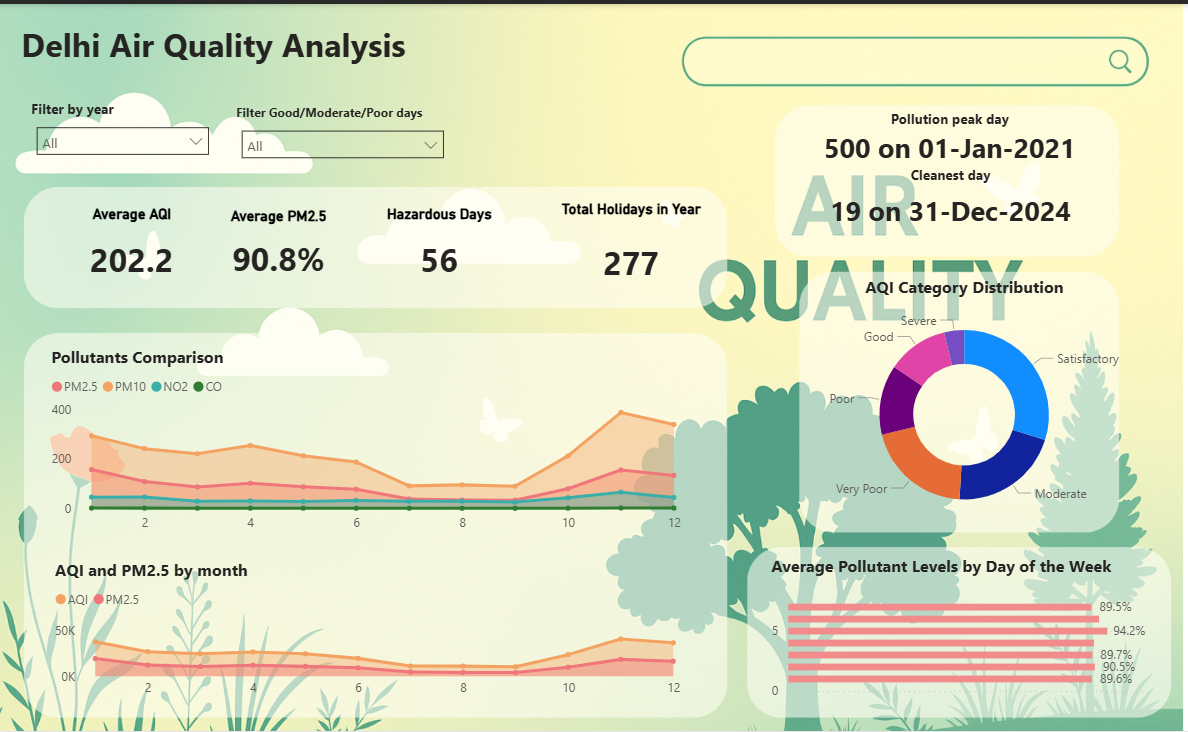

The dashboard page shown, as its layout file describes it:
{"tool":"powerbi","page":{"name":"Page 1","canvas":[1280,720],"ordinal":0},"visuals":[{"type":"textbox","box":[61.7,19.2,472,56.3],"z":0},{"type":"card","title":"Average PM2.5","fields":{"Values":["cleaned_delhi_air_data.Avg_PM2.5"]},"box":[204.1,193,118.7,90.3],"z":1000},{"type":"card","title":" Hazardous Days ","fields":{"Values":["cleaned_delhi_air_data.Hazard_day"]},"box":[298.1,191.7,159.6,96.5],"z":2000},{"type":"card","title":"General air quality level","fields":{"Values":["cleaned_delhi_air_data.Avg_AQI"]},"box":[35.9,191.7,171.9,96.5],"z":3000},{"type":"card","title":"Pollution peak day","fields":{"Values":["cleaned_delhi_air_data.Worst_AQI_Info"]},"box":[794.1,103.9,291.9,60.6],"z":4000},{"type":"card","title":"Cleanest day","fields":{"Values":["cleaned_delhi_air_data.Best_AQI_Info"]},"box":[783,159.6,315.4,74.2],"z":5000},{"type":"card","title":"Total Holidays in Year","fields":{"Values":["cleaned_delhi_air_data.Total_Holidays"]},"box":[502.2,191.7,183.1,111.3],"z":6000},{"type":"lineChart","fields":{"Category":["cleaned_delhi_air_data.month"],"Y":["Sum(cleaned_delhi_air_data.aqi)","Sum(cleaned_delhi_air_data.pm2.5)"]},"box":[49.9,548.5,632,147.4],"z":8000},{"type":"barChart","title":"Average Pollutant Levels by Day of the Week","fields":{"Category":["cleaned_delhi_air_data.days"],"Y":["cleaned_delhi_air_data.Avg_PM2.5"]},"box":[758.8,544.2,380.5,155],"z":9000},{"type":"lineChart","title":"Pollutants Comparison","fields":{"Category":["cleaned_delhi_air_data.month"],"Y":["Avg(cleaned_delhi_air_data.pm2.5)","Avg(cleaned_delhi_air_data.pm10)","Avg(cleaned_delhi_air_data.no2)","Avg(cleaned_delhi_air_data.co)"]},"box":[45.5,337.1,636.3,194],"z":10000},{"type":"donutChart","title":"AQI Category Distribution","fields":{"Y":["CountNonNull(cleaned_delhi_air_data.category_lable_pm25)"],"Category":["cleaned_delhi_air_data.category_lable_pm25"]},"box":[791.7,288.2,331.5,212.8],"z":10001},{"type":"slicer","title":"Filter by year","fields":{"Values":["cleaned_delhi_air_data.year"]},"box":[26,94.3,190.8,65],"z":10002},{"type":"slicer","title":"Filter Good/Moderate/Poor days","fields":{"Values":["cleaned_delhi_air_data.category_lable_pm25"]},"box":[228.8,99,220.2,60.6],"z":10003}]}

Visuals, with their boxes on the page's 1280x720 design canvas (x1, y1, x2, y2). These are canvas units, not pixel positions in the 1188x732 screenshot, which may show the page scaled, cropped or inside an application window:
textbox: 62, 19, 534, 76
"Average PM2.5" card: 204, 193, 323, 283
" Hazardous Days " card: 298, 192, 458, 288
"General air quality level" card: 36, 192, 208, 288
"Pollution peak day" card: 794, 104, 1086, 164
"Cleanest day" card: 783, 160, 1098, 234
"Total Holidays in Year" card: 502, 192, 685, 303
lineChart - cleaned_delhi_air_data.month x Sum(cleaned_delhi_air_data.aqi): 50, 548, 682, 696
"Average Pollutant Levels by Day of the Week" barChart: 759, 544, 1139, 699
"Pollutants Comparison" lineChart: 46, 337, 682, 531
"AQI Category Distribution" donutChart: 792, 288, 1123, 501
"Filter by year" slicer: 26, 94, 217, 159
"Filter Good/Moderate/Poor days" slicer: 229, 99, 449, 160
